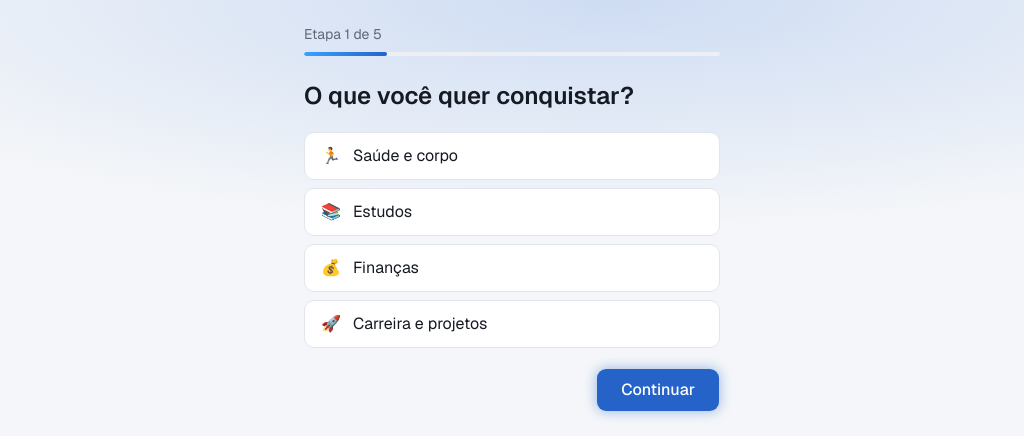
Test: OnboardingQuiz › keeps the previous answers when going back
What coordinates should you click on to do the following:
click the radio button labelled "Estudos"
I would click on:
 (383, 212)
Its box is [304, 188, 720, 236].
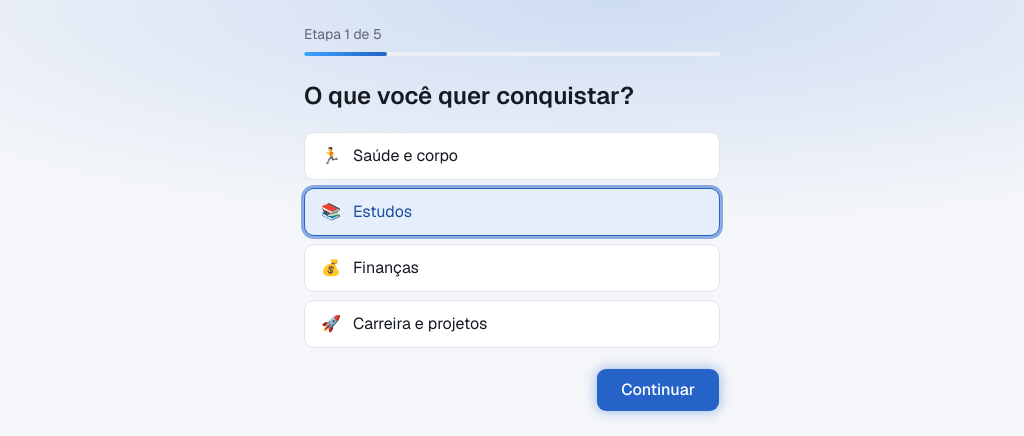
What coordinates should you click on to do the following:
click the button "Continuar"
I would click on:
 (658, 390)
Its box is [596, 368, 720, 412].
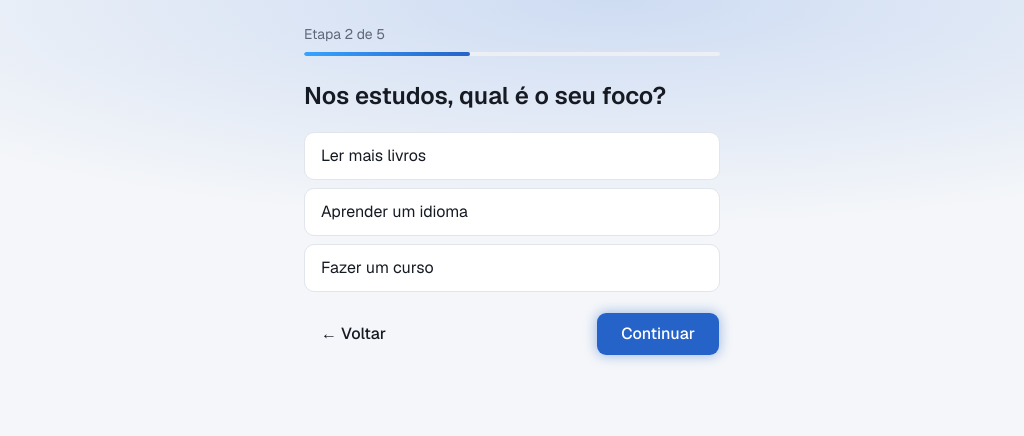
What coordinates should you click on to do the following:
click the radio button labelled "Aprender um idioma"
I would click on:
 (394, 212)
Its box is [304, 188, 720, 236].
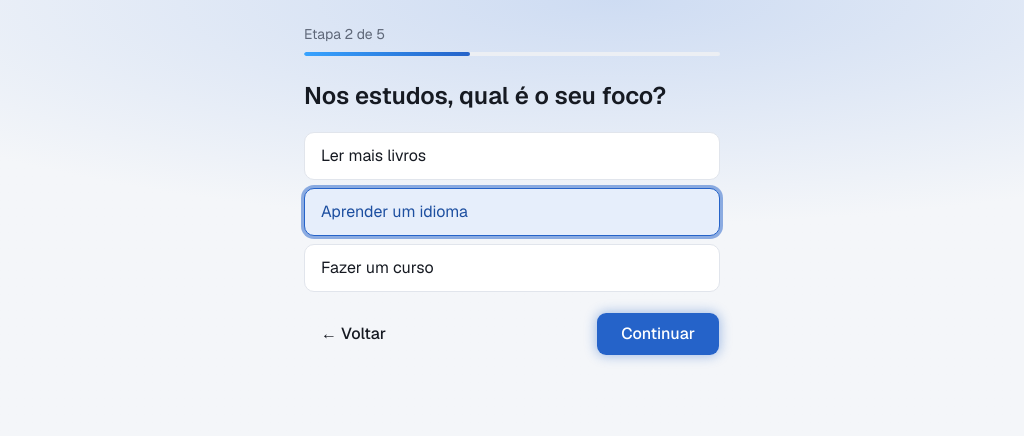
What coordinates should you click on to do the following:
click the button "Continuar"
I would click on:
 (658, 334)
Its box is [596, 312, 720, 356].
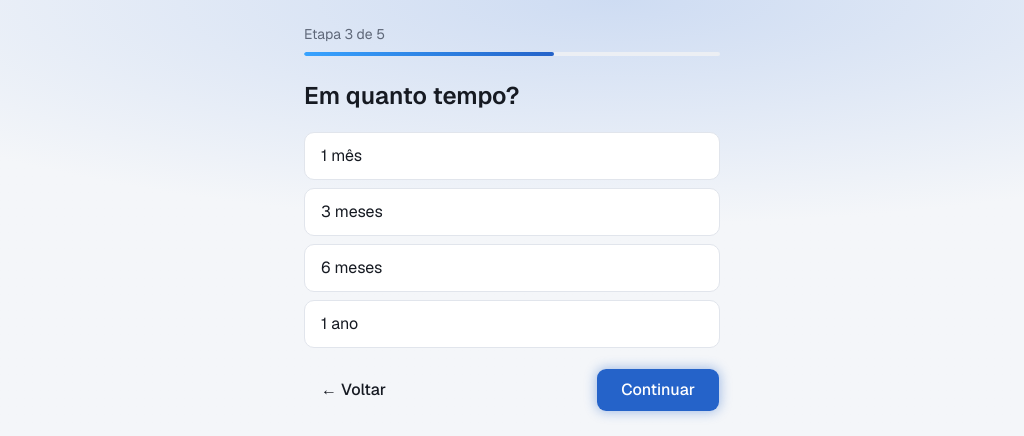
What coordinates should you click on to do the following:
click the button "← Voltar"
I would click on:
 (354, 390)
Its box is [304, 368, 403, 412].
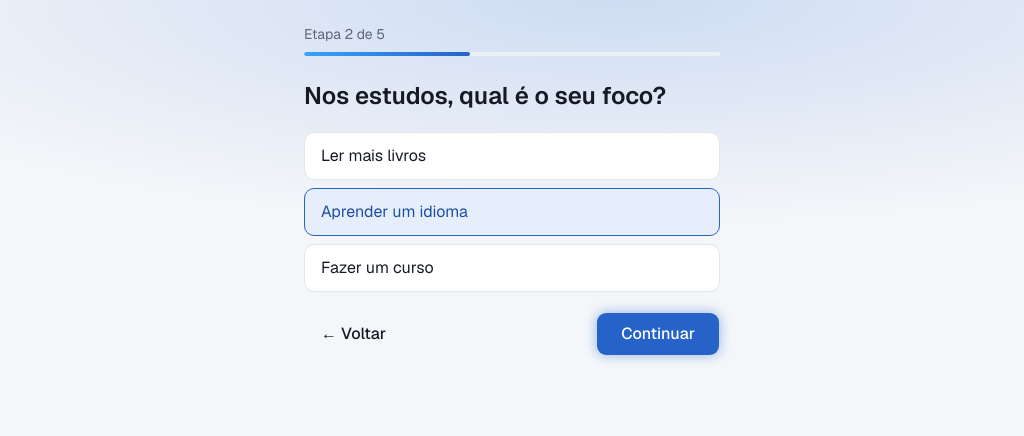
Now the text "Etapa 2 de 5" is shown, box [304, 25, 385, 43]
What coordinates should you click on to do the following:
click the button "← Voltar"
I would click on:
 (354, 334)
Its box is [304, 312, 403, 356].
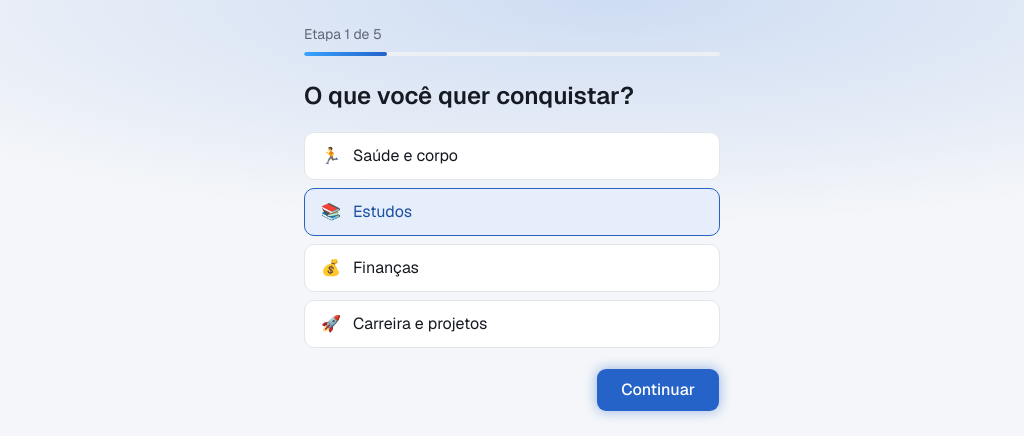
Now the button "Voltar" is gone
